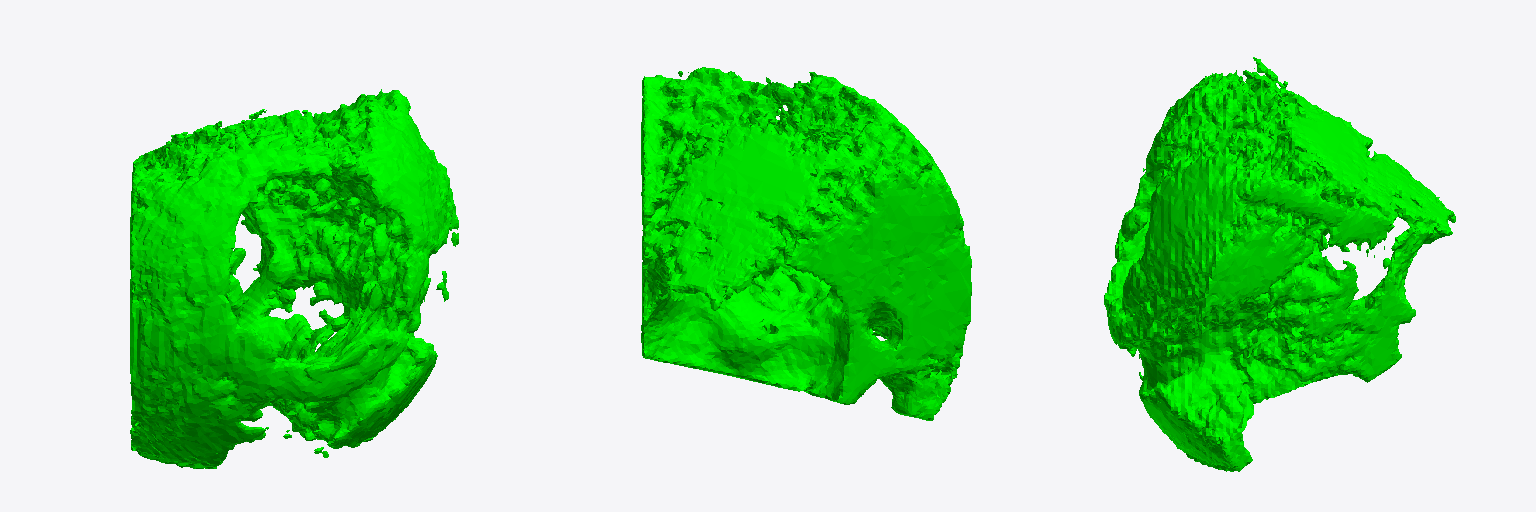
File: B939XXXX-1_base_23.obj
The picture shows the model from 3 angles: view 1: azimuth 30°, elevation 25°; view 2: azimuth 150°, elevation 25°; view 3: azimuth 270°, elevation 25°; orthographic projection.
Visible parts, largest first — view 1: 23_base; view 2: 23_base; view 3: 23_base.
Part boxes in pixels (bbox=[...]): 23_base: bbox=[130, 89, 458, 468]; 23_base: bbox=[641, 67, 971, 420]; 23_base: bbox=[1104, 57, 1455, 471].
Size of the model in its own units: 220 by 217 by 204.